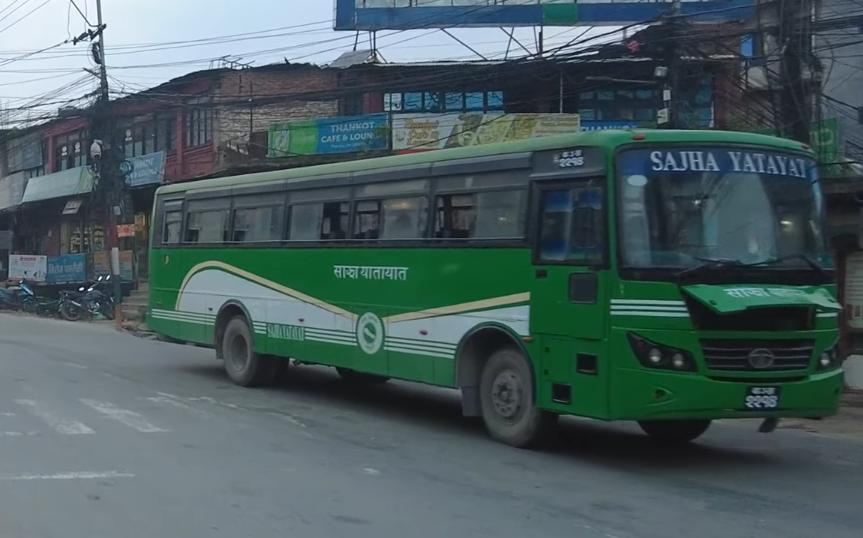bus: (147, 117, 849, 474)
